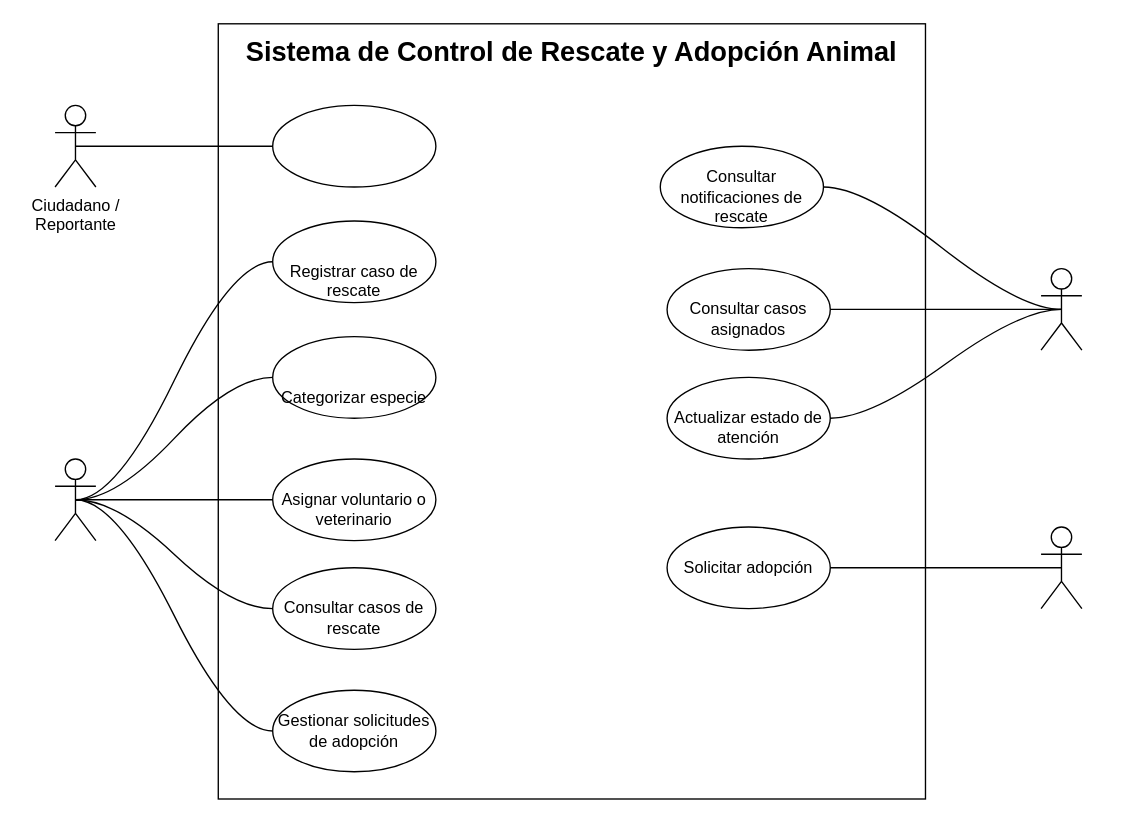
This 1136x823 diagram has some shape labels left out. The shapes that lost their labels are listed below. From the top down, each one's centre as x and y in pixels, then its label:
(x=353, y=145): Reportar animal en riesgo
(x=1061, y=308): Voluntario / Veterinario
(x=75, y=499): Administrador del refugio
(x=1061, y=567): Solicitante de adopción
